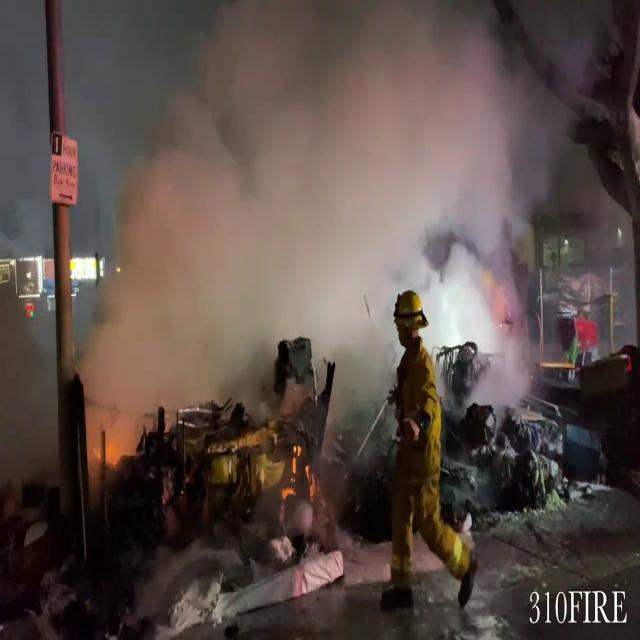Smoke: (81, 0, 584, 373)
